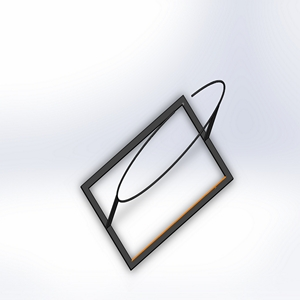circle: (79, 79, 234, 271)
